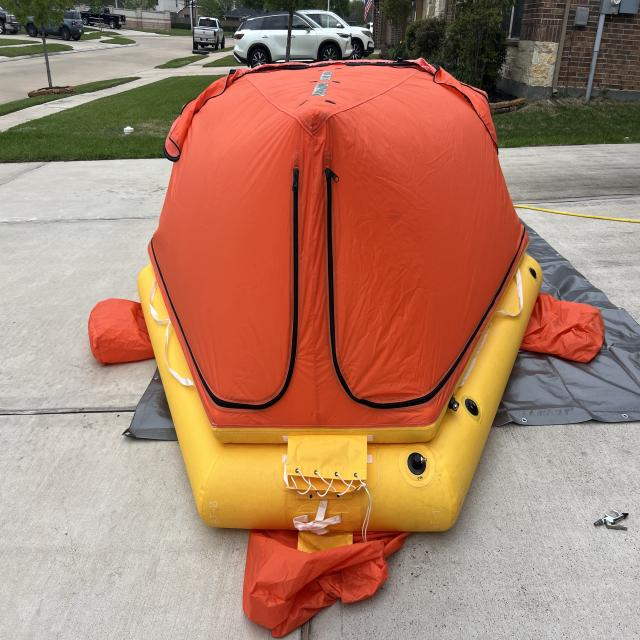Multi-person_life_raft: (87, 55, 605, 638)
